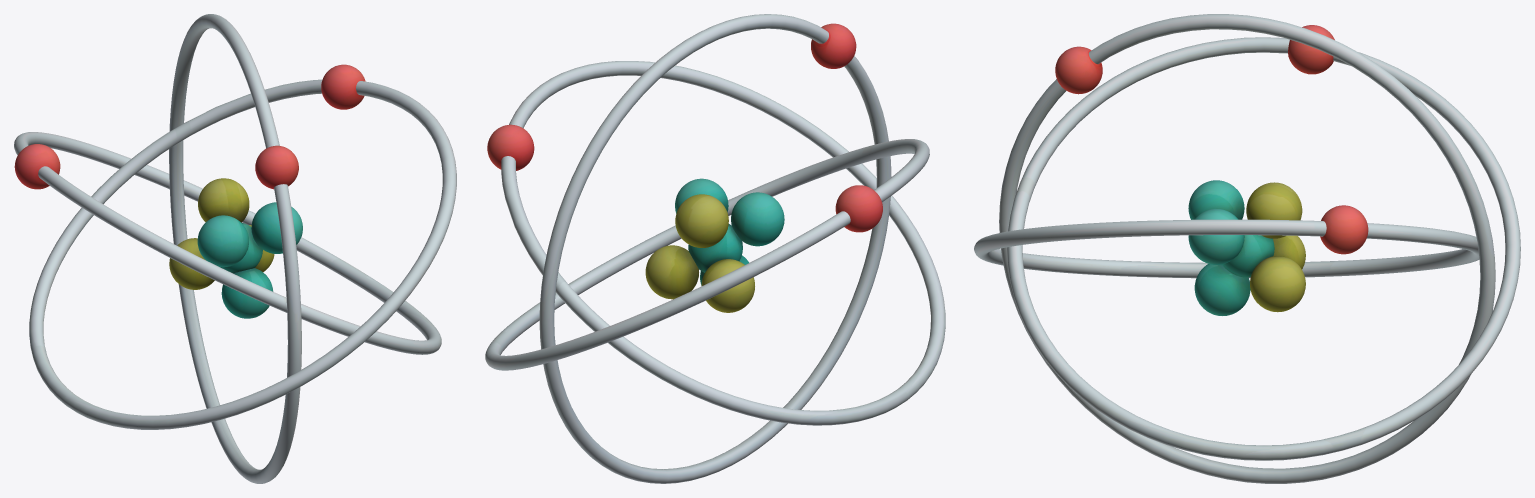
Rendered from atom1.fbx.
3 renders of one model, left to right at view 1: azimuth 30°, elevation 25°; view 2: azimuth 150°, elevation 25°; view 3: azimuth 270°, elevation 25°, orthographic. The views are drawn at different scales.
Visible parts, largest first — view 1: node_id34; view 2: node_id34; view 3: node_id34.
Boxes of the visible parts, x1=… form: node_id34: x1=14, y1=14, x2=456, y2=483; node_id34: x1=485, y1=14, x2=945, y2=483; node_id34: x1=974, y1=14, x2=1520, y2=483.
Size of the model in its own units: 0.4575 by 0.512 by 0.5451.
Materials: 1 (1 with a texture image).
